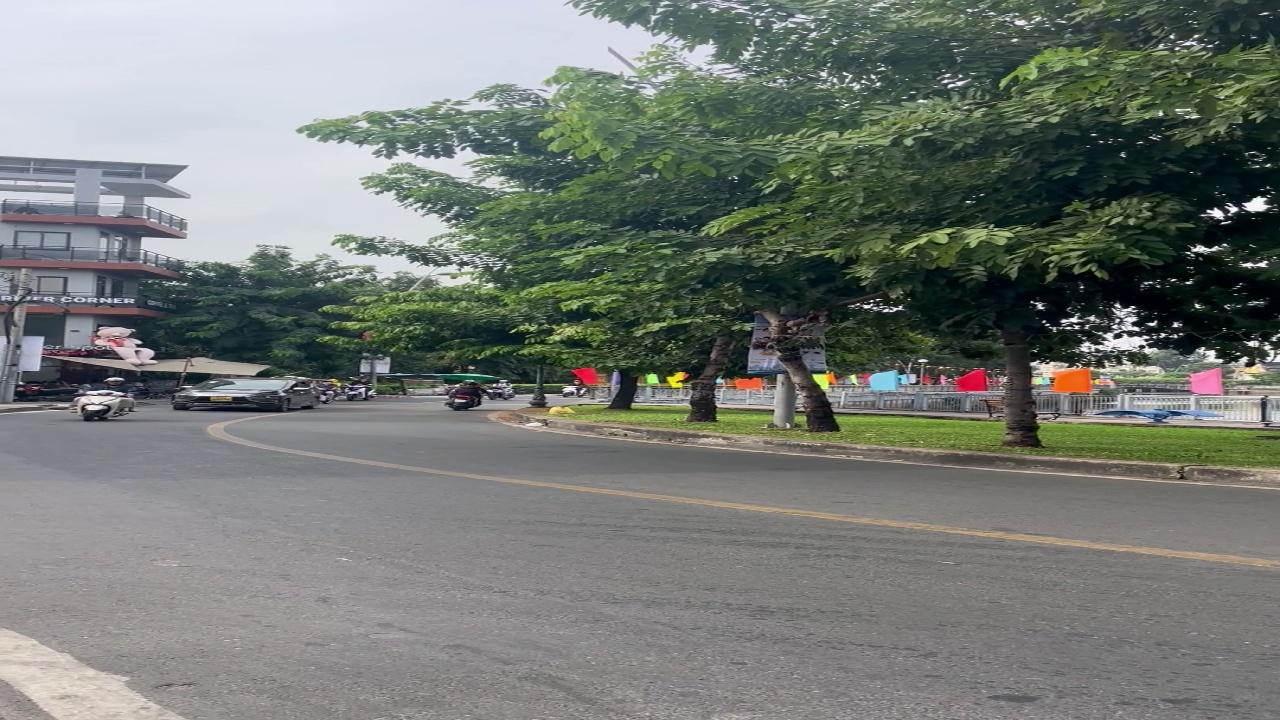Helmet: (82, 377, 137, 414), (449, 381, 484, 405)
Motor: (77, 390, 126, 420), (445, 395, 480, 410), (345, 384, 371, 400), (487, 387, 514, 399), (562, 385, 588, 397), (315, 388, 335, 403)
